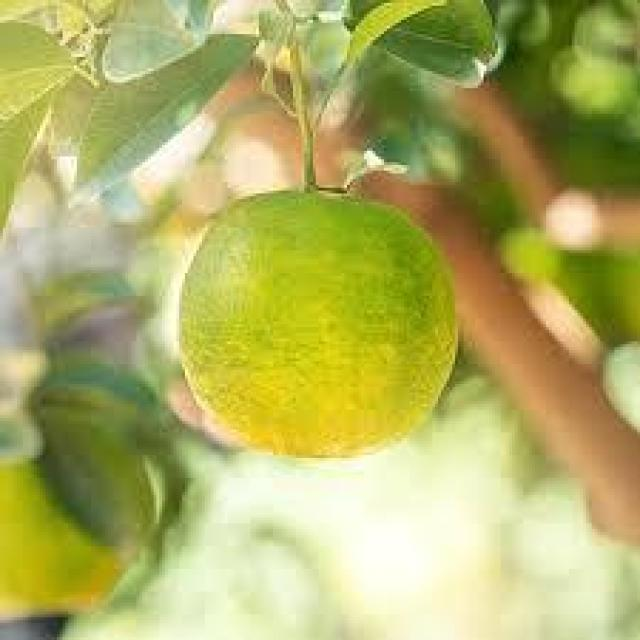fruit: (178, 183, 456, 458), (0, 374, 179, 626)
